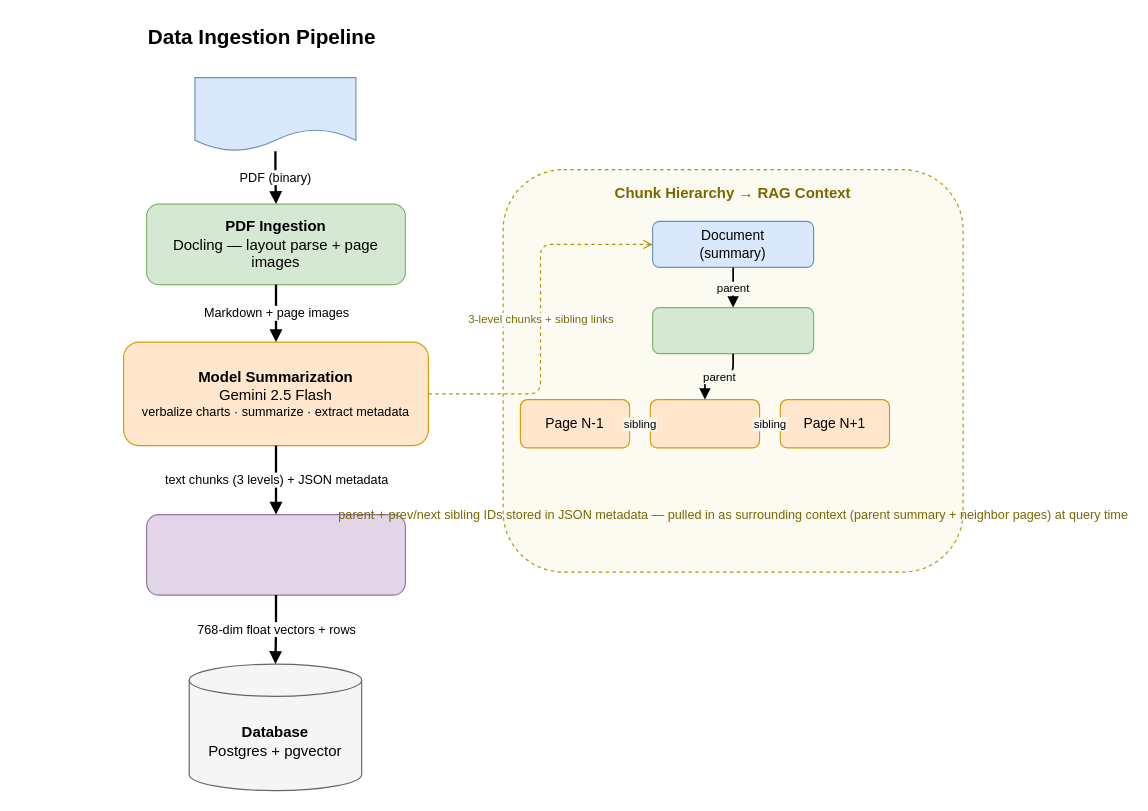
The diagram is 1148 pixels wide and 811 high, and some of its shapes have lost their labels. The centre of each missing label's shape, as x and y in pixels:
Embeddings gemini-embedding-2 (768-dim): the point at 275,554
Page N: the point at 704,423
PDF File: the point at 275,113
Section (summary): the point at 732,330
